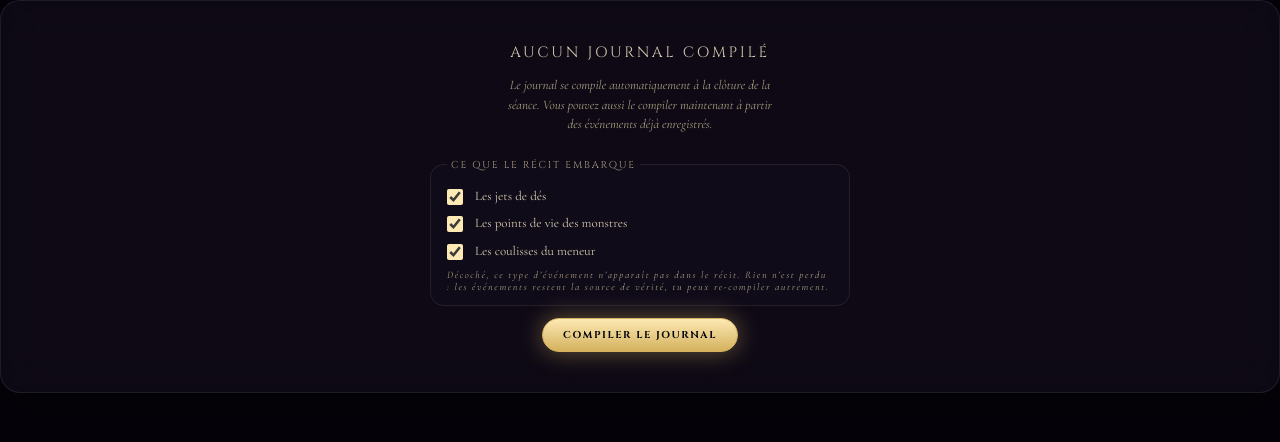
SessionJournalTab — compilation MJ › échec de compilation → message d’erreur, pas de crash
Click the button "Compiler le journal" at (640, 335), box [542,318,738,352]
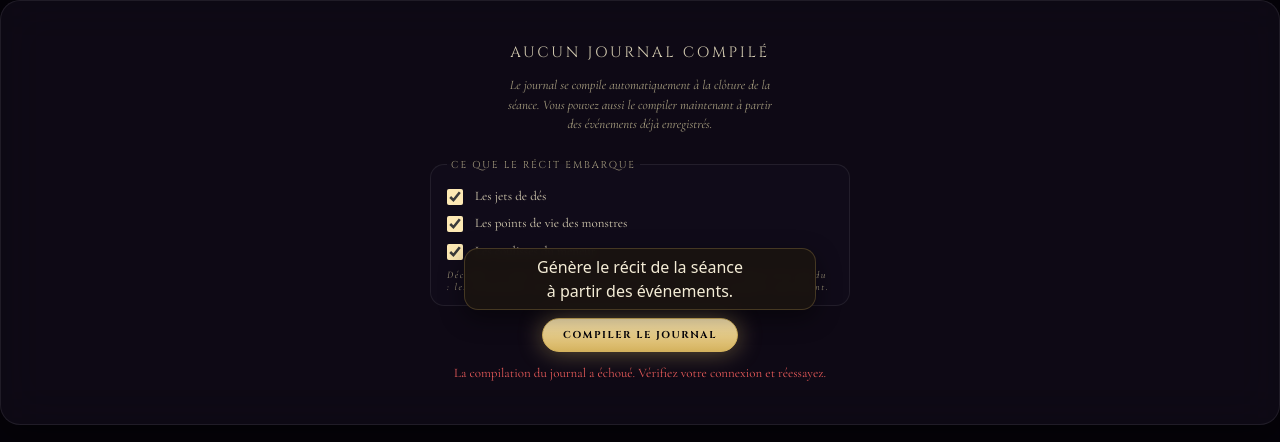
Expected: the message shows "compilation du journal a échoué", [454,365,826,381]
